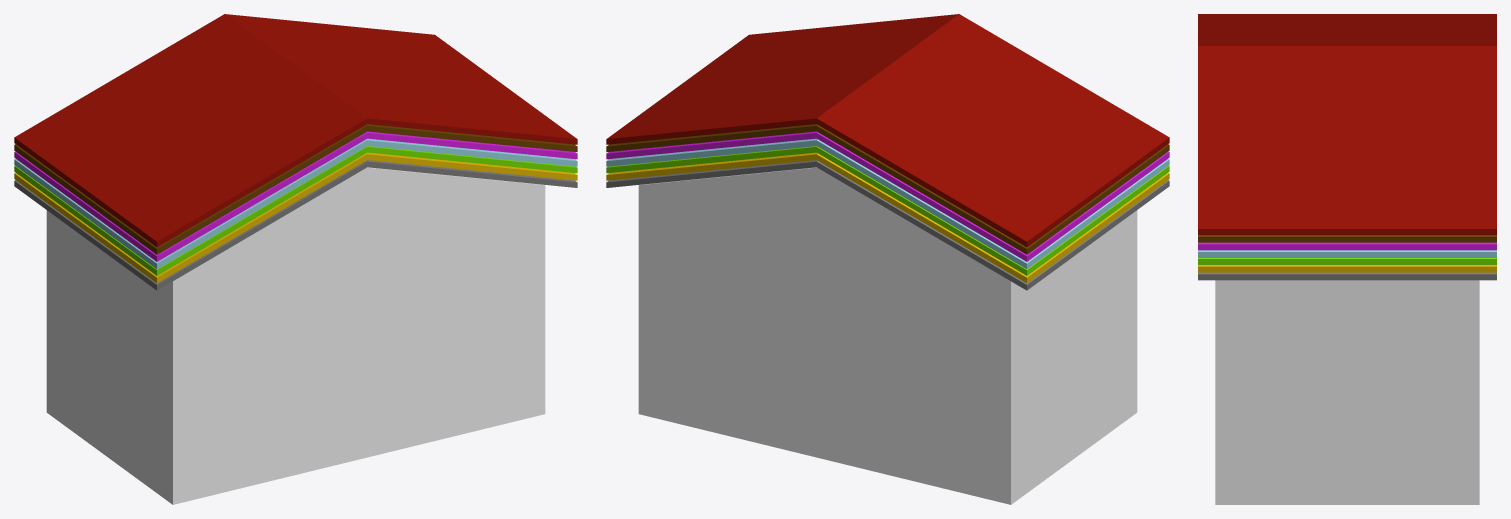
3 views of the same model, side by side, from view 1: azimuth 30°, elevation 25°; view 2: azimuth 150°, elevation 25°; view 3: azimuth 270°, elevation 25° (orthographic). The views are drawn at different scales.
Parts seen in each view (by area): view 1: 立方体, 立方体.007, 立方体.002, 立方体.006, 立方体.004, 立方体.001, 立方体.005, 立方体.003; view 2: 立方体, 立方体.007, 立方体.002, 立方体.006, 立方体.004, 立方体.001, 立方体.005, 立方体.003; view 3: 立方体.007, 立方体, 立方体.001, 立方体.005, 立方体.002, 立方体.004, 立方体.006, 立方体.003.
Part boxes in pixels (x1,y1,x2,y2): 立方体: [46, 167, 545, 504]; 立方体.007: [14, 14, 577, 247]; 立方体.002: [14, 152, 577, 282]; 立方体.006: [14, 124, 577, 254]; 立方体.004: [14, 138, 577, 268]; 立方体.001: [14, 160, 577, 290]; 立方体.005: [14, 131, 577, 261]; 立方体.003: [14, 146, 577, 275]; 立方体: [638, 167, 1137, 504]; 立方体.007: [606, 14, 1169, 247]; 立方体.002: [606, 152, 1169, 282]; 立方体.006: [606, 124, 1169, 254]; 立方体.004: [606, 138, 1169, 268]; 立方体.001: [606, 160, 1169, 290]; 立方体.005: [606, 131, 1169, 261]; 立方体.003: [606, 146, 1169, 275]; 立方体.007: [1198, 14, 1496, 234]; 立方体: [1215, 280, 1479, 504]; 立方体.001: [1198, 272, 1496, 280]; 立方体.005: [1198, 242, 1496, 250]; 立方体.002: [1198, 265, 1496, 272]; 立方体.004: [1198, 250, 1496, 257]; 立方体.006: [1198, 235, 1496, 242]; 立方体.003: [1198, 258, 1496, 264].
Bounding box in the file's own units: 3.85 × 3.03 × 2.26.
